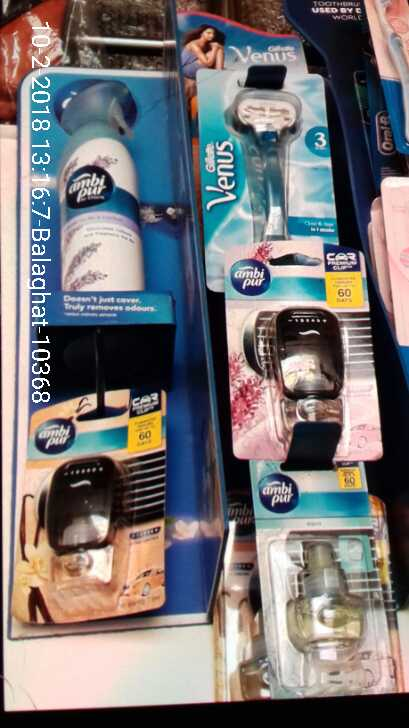beauty: (192, 63, 333, 244)
home: (225, 242, 380, 458), (25, 402, 161, 626), (261, 459, 383, 700), (58, 70, 152, 302)
